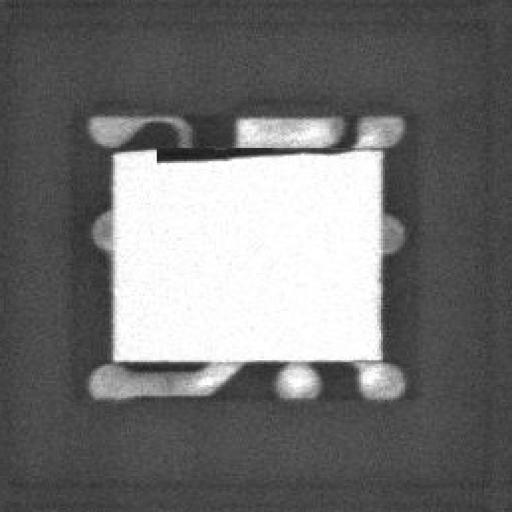DIE_BROKEN: (151, 140, 339, 165)
